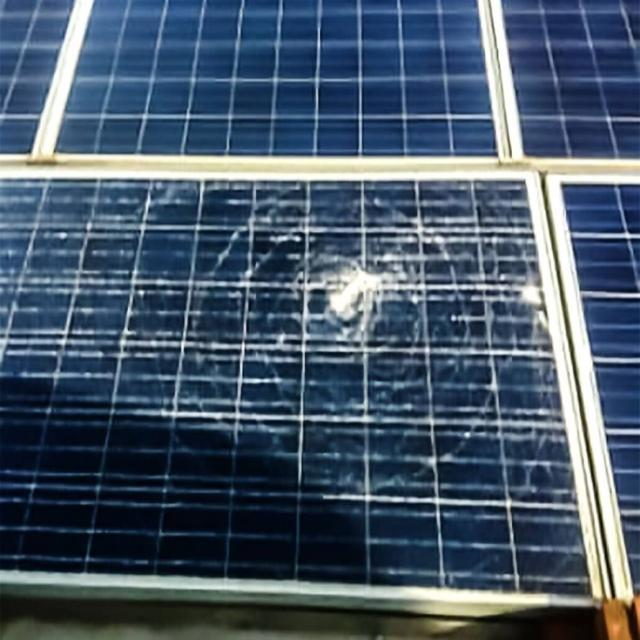Anomaly Solar Panel: (0, 179, 591, 593)
Normal Solar Panel: (0, 1, 639, 161)
Structural Damage: (238, 208, 495, 400)
